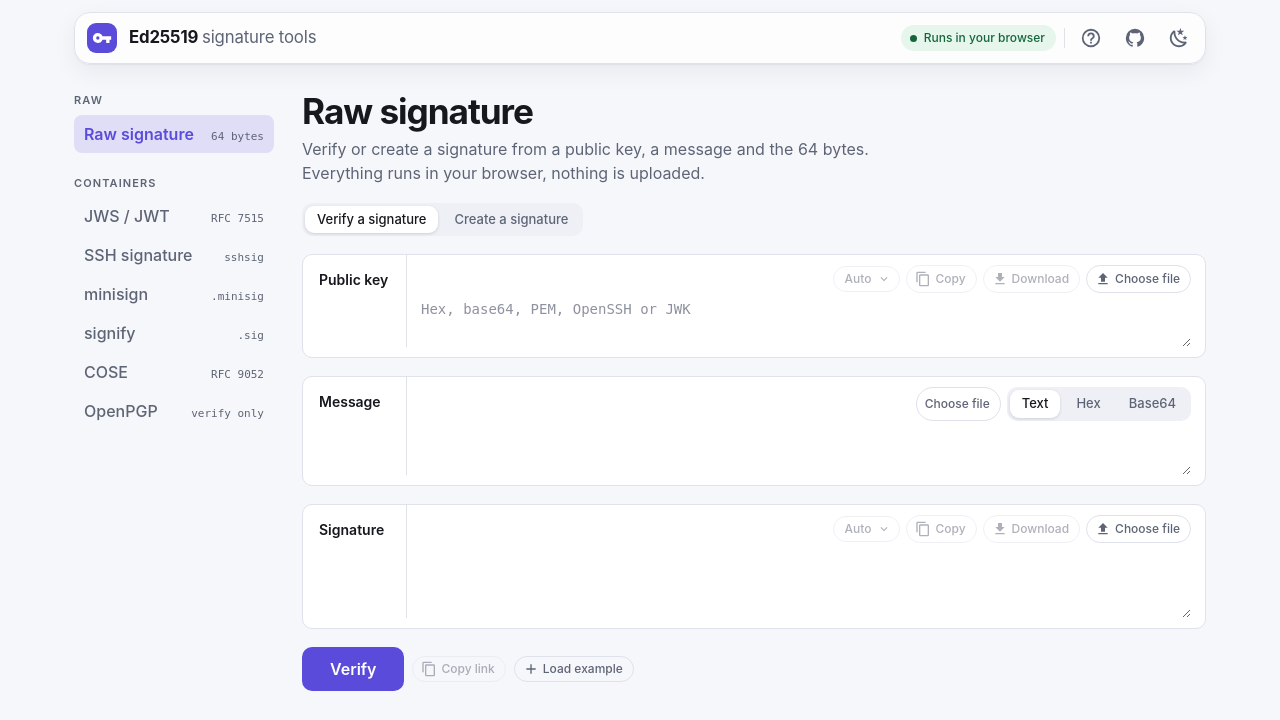
Test case: the help dialog › opens from the top bar, names itself and moves the focus into it
What coordinates should you click on to do the following:
click the button named "What is this?"
I would click on:
 (1091, 38)
Its box is [1073, 20, 1109, 56].
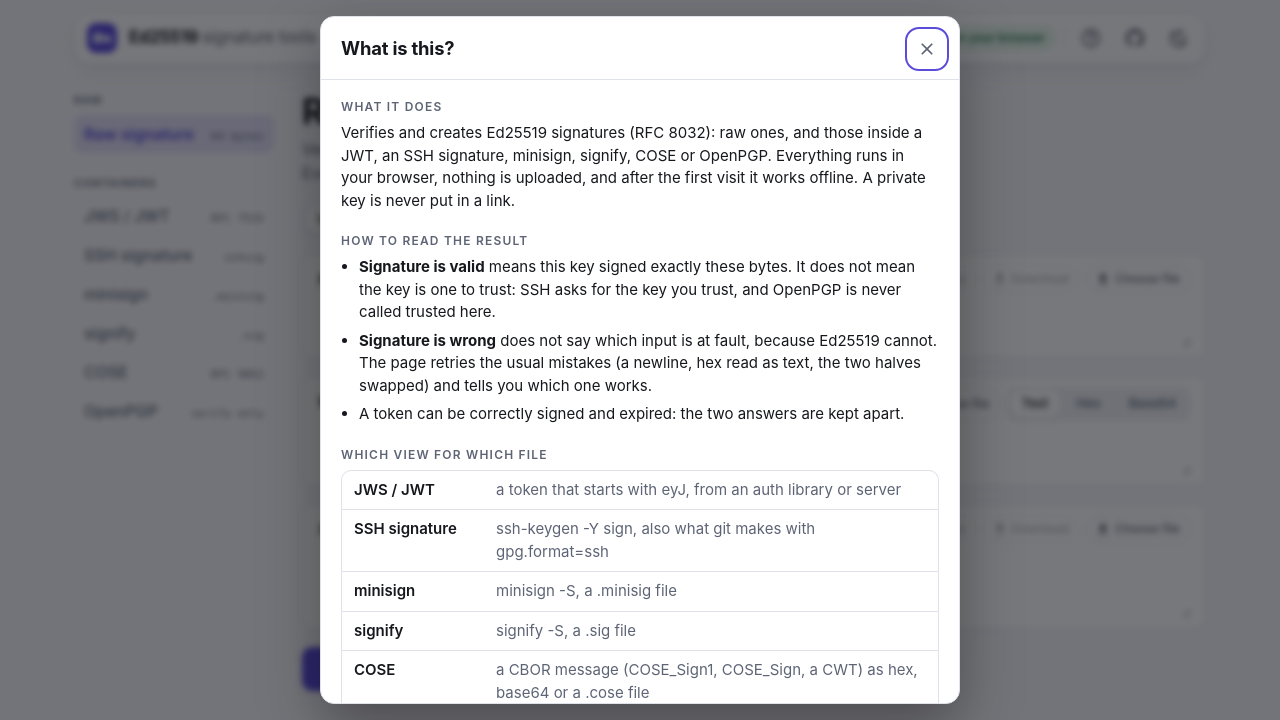
Check: the dialog "What is this?" shows "nothing is uploaded", box [341, 123, 926, 210]
